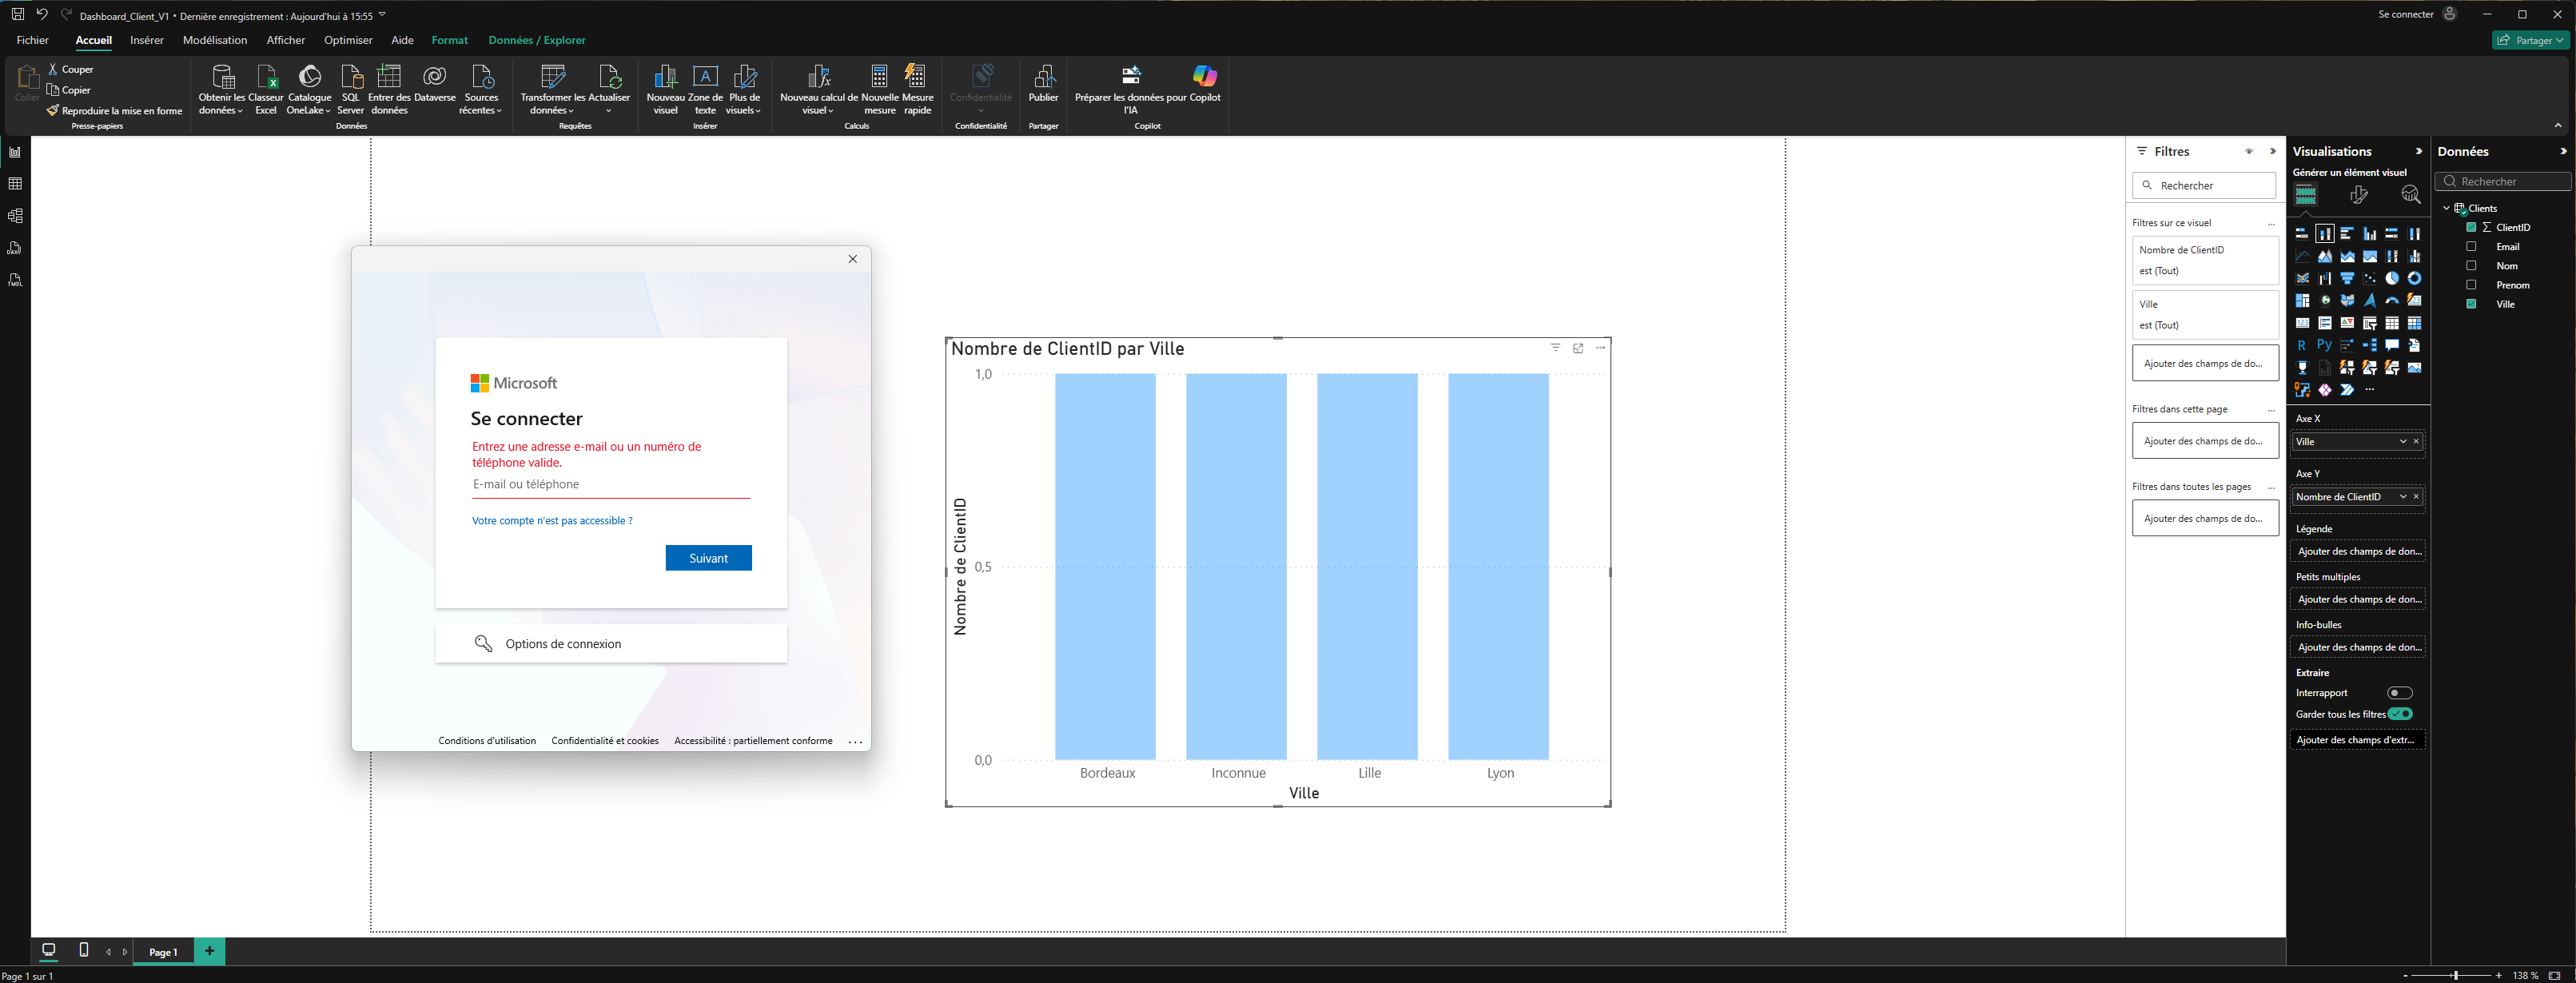

The dashboard page shown, as its layout file describes it:
{"tool":"powerbi","page":{"name":"Page 1","canvas":[1280,720],"ordinal":0},"visuals":[{"type":"columnChart","fields":{"Category":["Clients.Ville"],"Y":["CountNonNull(Clients.ClientID)"]},"box":[356.7,186,602.8,425.5],"z":0},{"type":"textbox","box":[356.7,58.6,589,60.1],"z":1}]}

Visuals, with their boxes on the page's 1280x720 design canvas (x1, y1, x2, y2). These are canvas units, not pixel positions in the 2576x983 screenshot, which may show the page scaled, cropped or inside an application window:
columnChart - Clients.Ville x CountNonNull(Clients.ClientID): 357,186,960,612
textbox: 357,59,946,119
